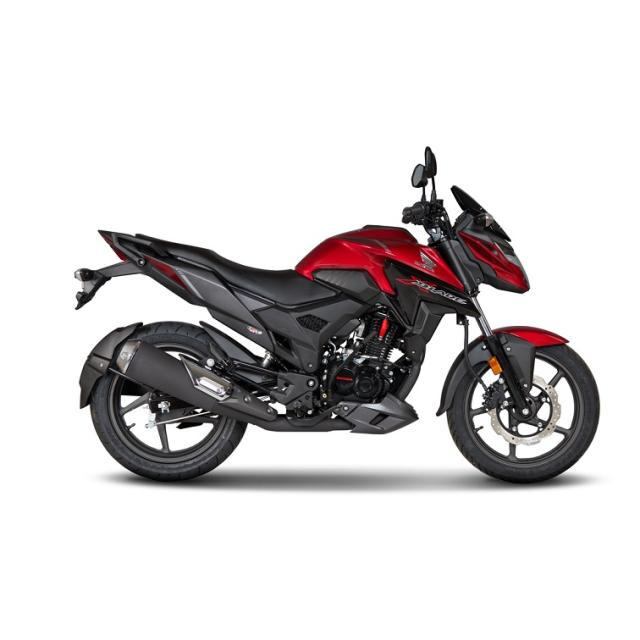MOTORCYCLE: (72, 148, 598, 481)
